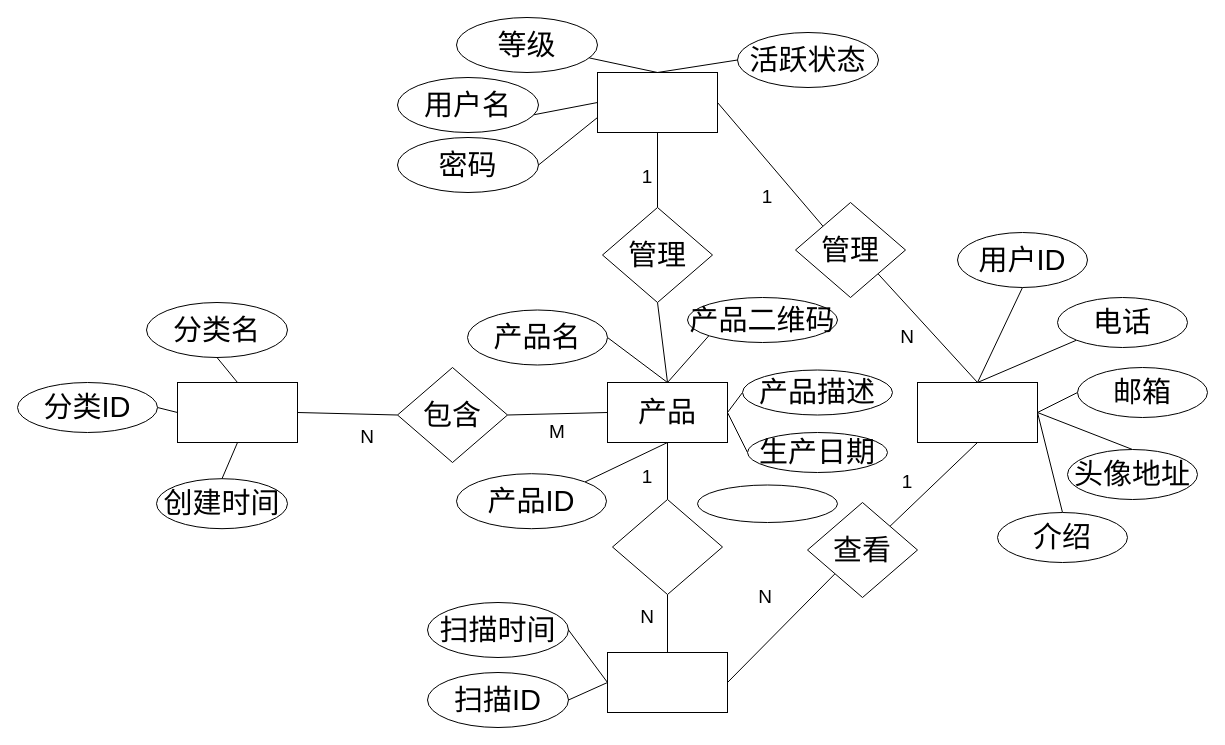
The diagram is 1225 pixels wide and 745 high, and some of its shapes have lost their labels. The shapes that lost their labels are listed below. From the top down, each one's centre as x and y in pixels, then its label:
At (657,102): "管理员".
At (237,412): "分类".
At (977,412): "用户".
At (767,503): "过期日期".
At (667,546): "记录".
At (667,682): "扫码记录".
